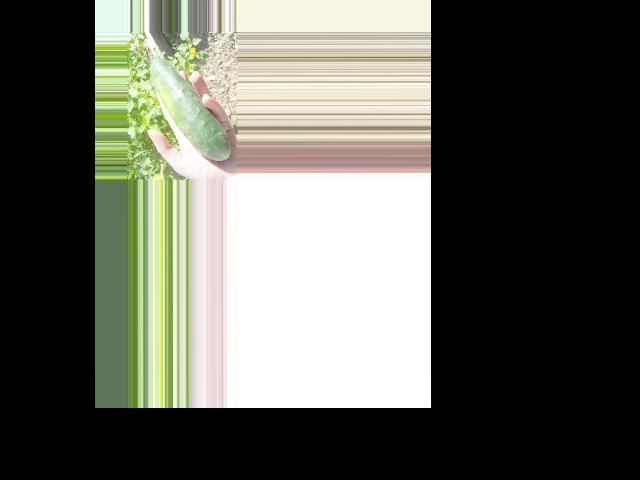cucumber: (150, 56, 230, 160)
